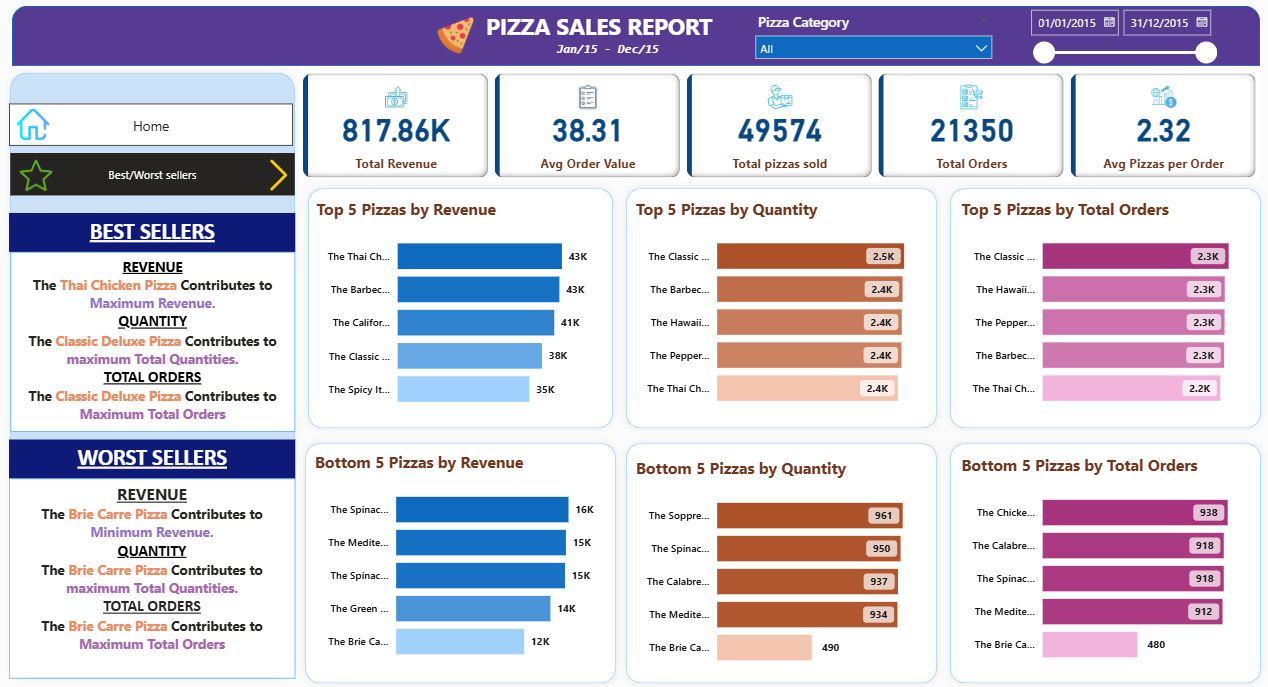

This screenshot's page, from the dashboard's own definition file:
{"tool":"powerbi","page":{"name":"Best/Worst sellers","canvas":[1500,820],"ordinal":1},"visuals":[{"type":"shape","box":[3.5,81.6,353.1,732.9],"z":0},{"type":"cardVisual","fields":{"Data":["pizza_sales.Total Revenue","pizza_sales.Avg_Order_Value","pizza_sales.Total_pizzas_sold","pizza_sales.Total_Orders","pizza_sales.Avg_Pizzas_per_Order"]},"box":[352.6,85.2,1137.1,133.7],"z":1000},{"type":"shape","box":[14.2,10.6,1476.3,71],"z":2000},{"type":"textbox","box":[550.2,10.9,317.3,45.3],"z":3000},{"type":"textbox","box":[650.2,45.3,139.1,40.6],"z":4000},{"type":"image","box":[503.3,17.2,70.3,54.7],"z":5000},{"type":"shape","box":[356.7,218.3,376.2,299.9],"z":6000},{"type":"textbox","box":[10.6,255.5,338.9,46.1],"z":7000},{"type":"textbox","box":[13.3,301.2,336.6,212.6],"z":8000},{"type":"textbox","box":[11.1,522.6,338.8,46.5],"z":9000},{"type":"textbox","box":[11.1,569.1,338.8,237],"z":10000},{"type":"slicer","fields":{"Values":["pizza_sales.pizza_category"]},"box":[883.7,12.4,299.9,74.5],"z":11000},{"type":"slicer","fields":{"Values":["pizza_sales.order_date"]},"box":[1206.6,5.3,241.3,81.6],"z":12000},{"type":"shape","box":[732.9,218.3,383.3,300],"z":13000},{"type":"shape","box":[1116.1,218.3,383.3,300],"z":14000},{"type":"shape","box":[732.9,519.9,383.3,299.9],"z":15000},{"type":"shape","box":[1116.1,519.9,383.3,300],"z":16000},{"type":"shape","box":[353.1,519.9,383.3,299.9],"z":17000},{"type":"barChart","title":"Top 5 Pizzas by Revenue","fields":{"Category":["pizza_sales.pizza_name"],"Y":["pizza_sales.Total Revenue"]},"box":[369.1,237.8,351.3,262.6],"z":18000},{"type":"barChart","title":"Bottom 5 Pizzas by Revenue","fields":{"Category":["pizza_sales.pizza_name"],"Y":["pizza_sales.Total Revenue"]},"box":[367.6,538.1,352.1,261.3],"z":19000},{"type":"barChart","title":"Top 5 Pizzas by Quantity","fields":{"Category":["pizza_sales.pizza_name"],"Y":["pizza_sales.Total_pizzas_sold"]},"box":[746.3,237,352.1,261.3],"z":20000},{"type":"barChart","title":"Bottom 5 Pizzas by Quantity","fields":{"Category":["pizza_sales.pizza_name"],"Y":["pizza_sales.Total_pizzas_sold"]},"box":[746.3,544.8,352.1,261.3],"z":21000},{"type":"barChart","title":"Top 5 Pizzas by Total Orders","fields":{"Category":["pizza_sales.pizza_name"],"Y":["pizza_sales.Total_Orders"]},"box":[1131.7,237,352.1,261.3],"z":22000},{"type":"barChart","title":"Bottom 5 Pizzas by Total Orders","fields":{"Category":["pizza_sales.pizza_name"],"Y":["pizza_sales.Total_Orders"]},"box":[1131.7,540.4,352.1,261.3],"z":23000},{"type":"pageNavigator","box":[13.3,183.8,336.6,50.9],"z":24000},{"type":"pageNavigator","box":[11.1,126.2,336.6,50.9],"z":25000},{"type":"image","box":[303.4,186,53.2,48],"z":26000},{"type":"image","box":[13.3,126.2,53.2,48.7],"z":27000},{"type":"image","box":[11.1,186,64.2,48.7],"z":28000}]}

Visuals, with their boxes in screenshot pixels (x1, y1, x2, y2), scaled from the page's 1500x820 canvas onto the 1268x687 screenshot:
shape: x1=3, y1=68, x2=301, y2=682
cardVisual - pizza_sales.Total Revenue x pizza_sales.Avg_Order_Value: x1=298, y1=71, x2=1259, y2=183
shape: x1=12, y1=9, x2=1260, y2=68
textbox: x1=465, y1=9, x2=733, y2=47
textbox: x1=550, y1=38, x2=667, y2=72
image: x1=425, y1=14, x2=485, y2=60
shape: x1=302, y1=183, x2=620, y2=434
textbox: x1=9, y1=214, x2=295, y2=253
textbox: x1=11, y1=252, x2=296, y2=430
textbox: x1=9, y1=438, x2=296, y2=477
textbox: x1=9, y1=477, x2=296, y2=675
slicer - pizza_sales.pizza_category: x1=747, y1=10, x2=1001, y2=73
slicer - pizza_sales.order_date: x1=1020, y1=4, x2=1224, y2=73
shape: x1=620, y1=183, x2=944, y2=434
shape: x1=943, y1=183, x2=1267, y2=434
shape: x1=620, y1=436, x2=944, y2=686
shape: x1=943, y1=436, x2=1267, y2=686
shape: x1=298, y1=436, x2=623, y2=686
"Top 5 Pizzas by Revenue" barChart: x1=312, y1=199, x2=609, y2=419
"Bottom 5 Pizzas by Revenue" barChart: x1=311, y1=451, x2=608, y2=670
"Top 5 Pizzas by Quantity" barChart: x1=631, y1=199, x2=929, y2=417
"Bottom 5 Pizzas by Quantity" barChart: x1=631, y1=456, x2=929, y2=675
"Top 5 Pizzas by Total Orders" barChart: x1=957, y1=199, x2=1254, y2=417
"Bottom 5 Pizzas by Total Orders" barChart: x1=957, y1=453, x2=1254, y2=672
pageNavigator: x1=11, y1=154, x2=296, y2=197
pageNavigator: x1=9, y1=106, x2=294, y2=148
image: x1=256, y1=156, x2=301, y2=196
image: x1=11, y1=106, x2=56, y2=147
image: x1=9, y1=156, x2=64, y2=197
